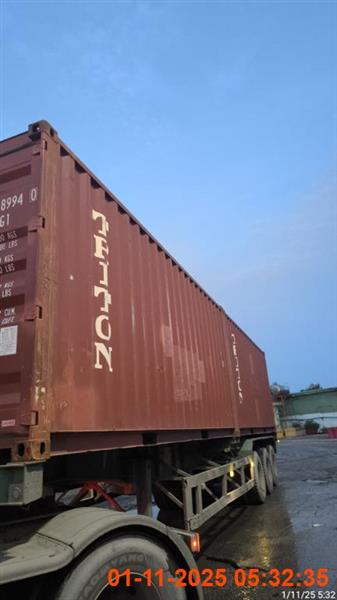broken: (0, 120, 280, 598)
